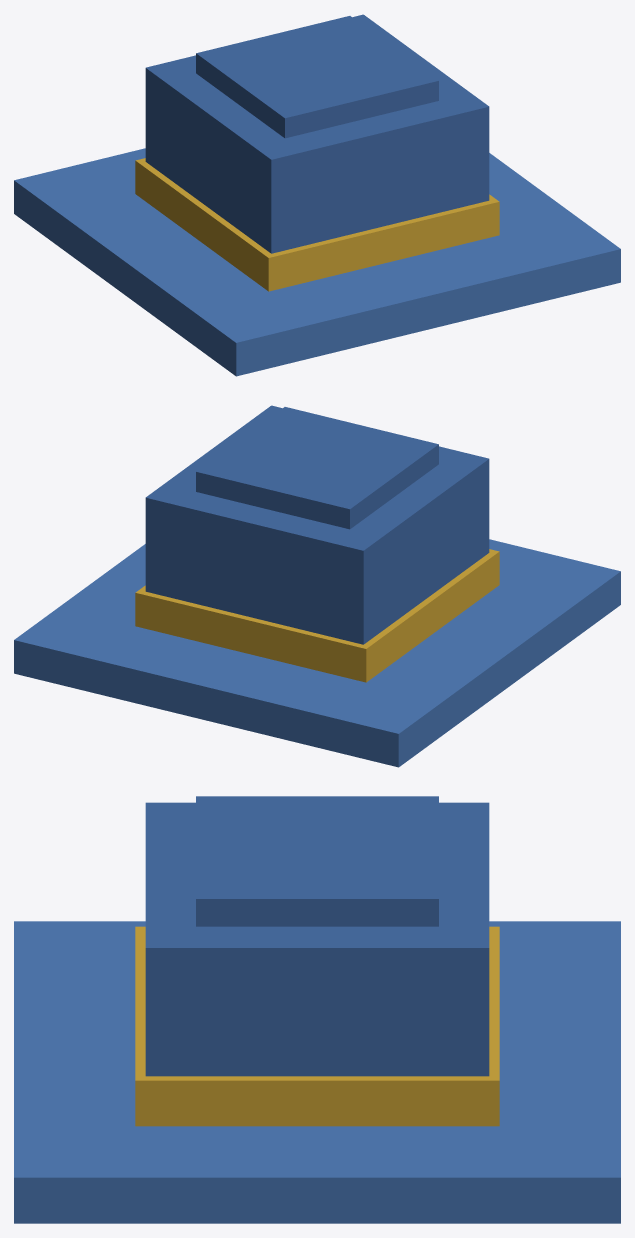
File: cp-hat-blue.glb
3 renders of one model, top to bottom at view 1: azimuth 30°, elevation 25°; view 2: azimuth 150°, elevation 25°; view 3: azimuth 270°, elevation 25°, orthographic. The views are drawn at different scales.
Visible parts, largest first — view 1: box-prop; view 2: box-prop; view 3: box-prop.
Boxes of the visible parts, x1,y1,x2,y2 form: box-prop: (14, 14, 620, 376); box-prop: (14, 405, 620, 767); box-prop: (14, 796, 620, 1223).
Size of the model in its own units: 0.6 by 0.27 by 0.6.
